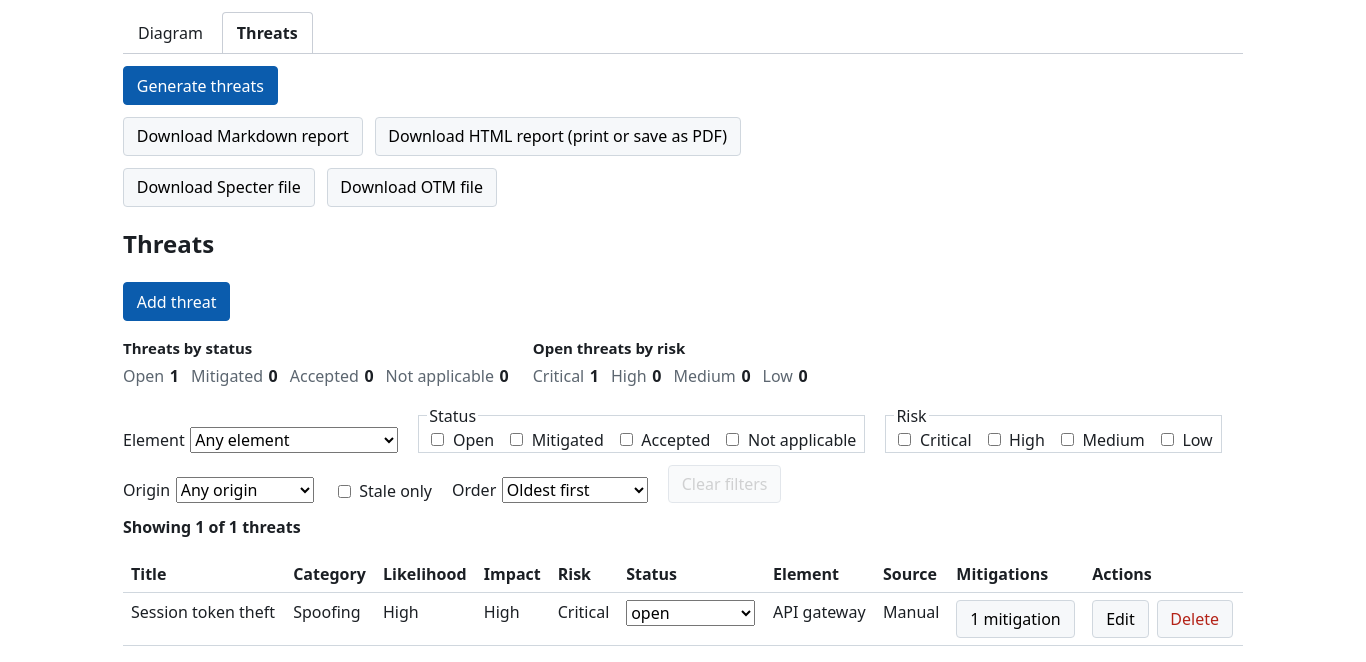
Test: the threat model page’s threats › adds a mitigation to an expanded threat, and refetches the model’s mitigations
(page scrolled)
Click the button "1 mitigation" at point(1015, 619), box [956, 600, 1074, 638]
(page scrolled)
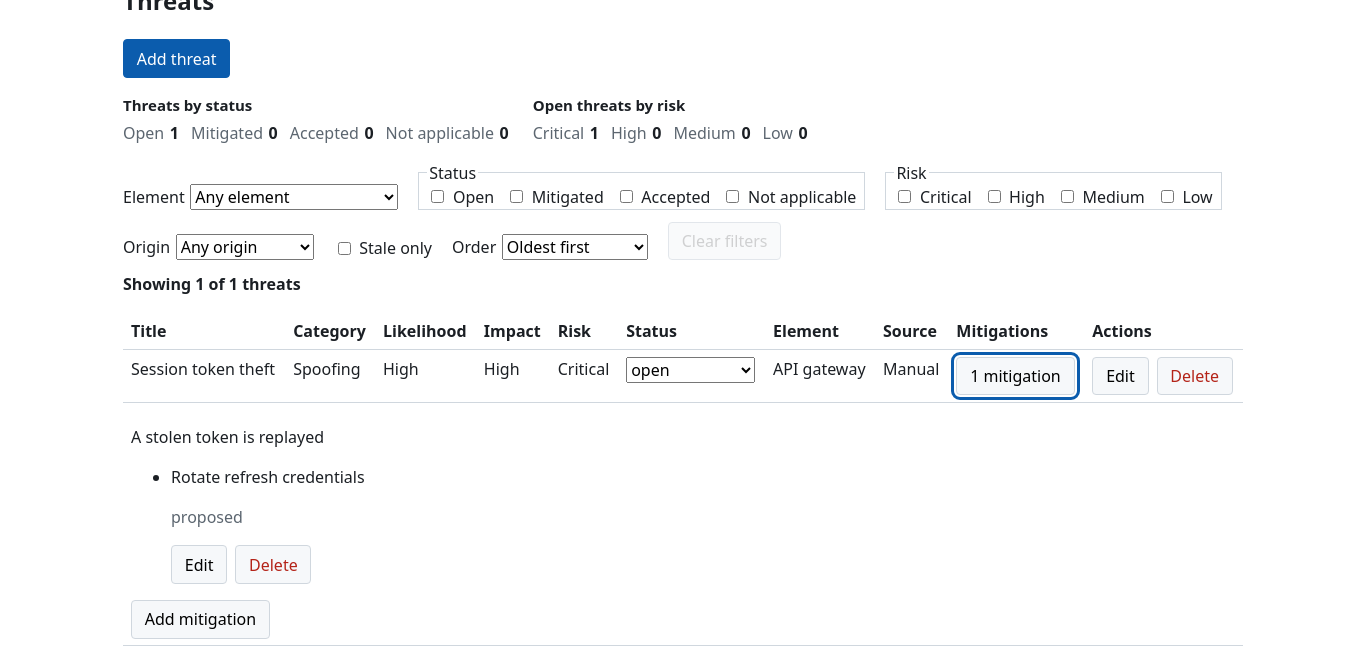
Click the button "Add mitigation" at point(200, 619), box [131, 600, 270, 639]
(page scrolled)
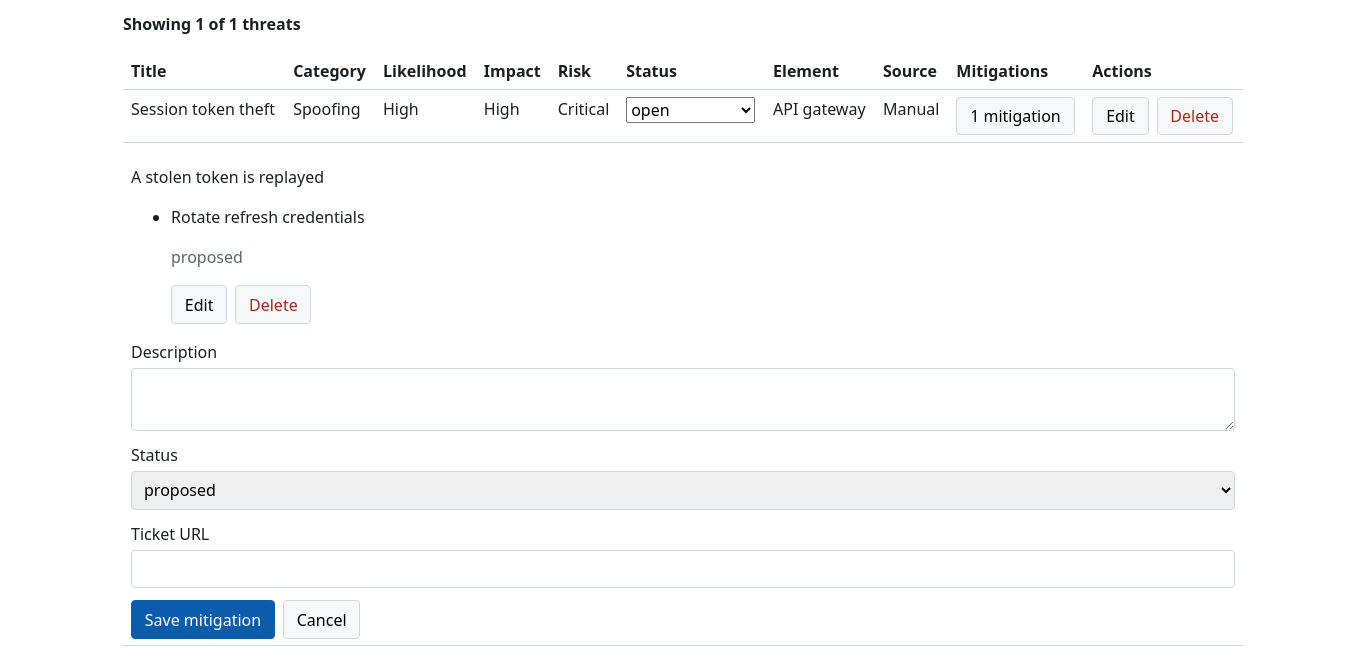
Type "Add rate limiting" into the text box labelled "Description" at point(683, 399), box [131, 368, 1235, 431]
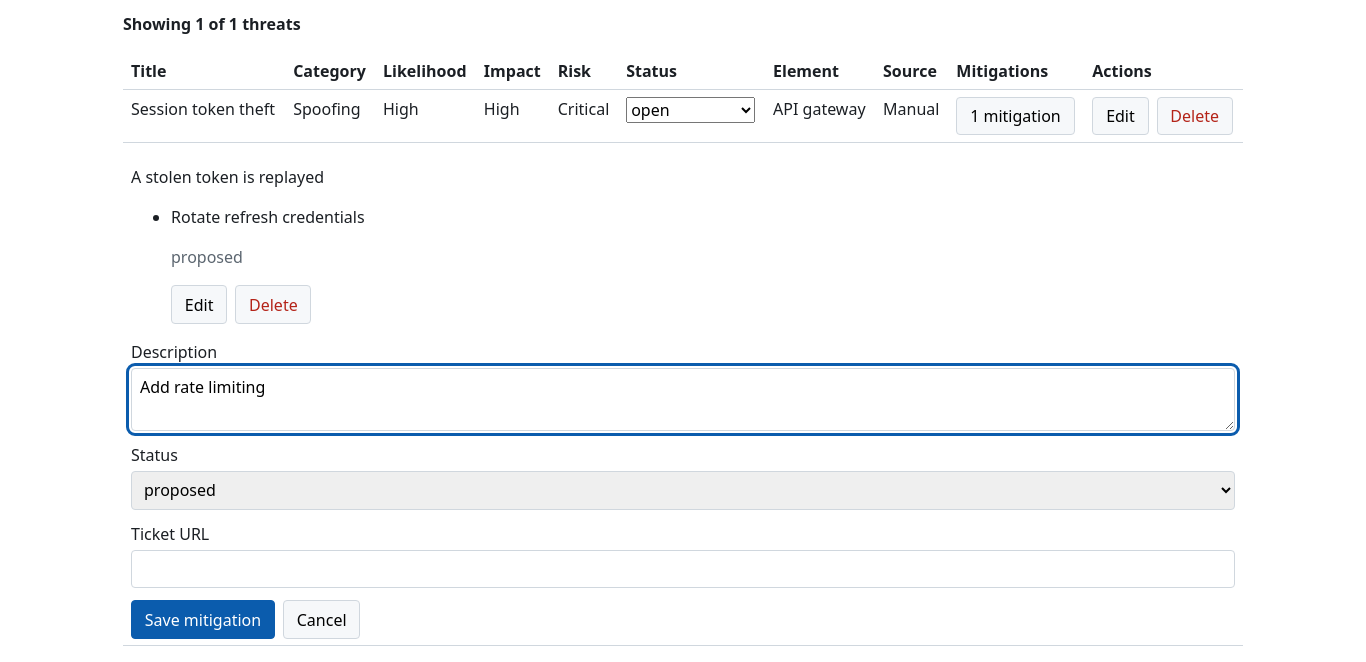
Click the button "Save mitigation" at point(203, 620), box [131, 600, 275, 639]
(page scrolled)
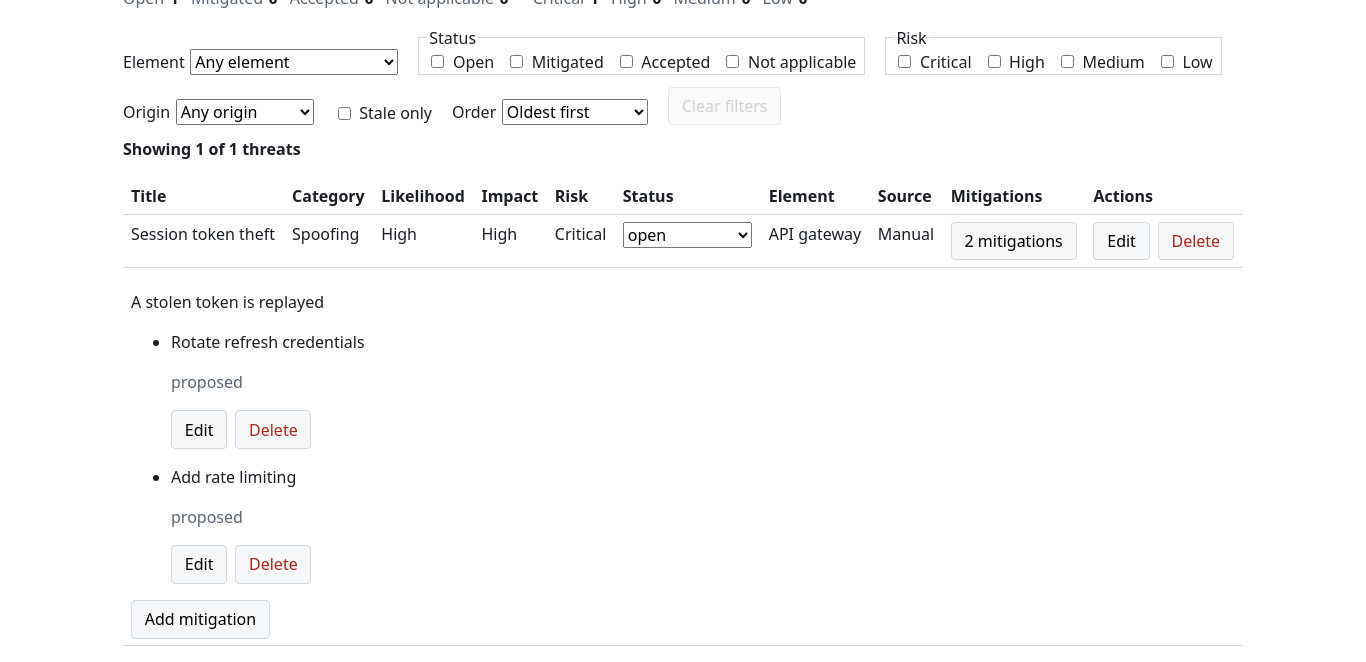
Check: the button "2 mitigations" is expanded, box [951, 222, 1077, 260]
Check: the text "Add rate limiting" is shown, box [171, 466, 296, 488]
